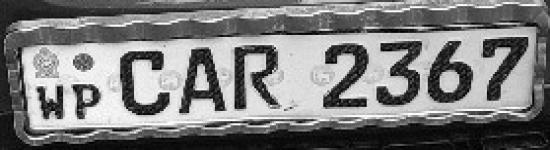2: (316, 39, 373, 113)
3: (376, 38, 425, 109)
6: (428, 34, 476, 106), (428, 35, 476, 106)
7: (484, 32, 532, 108)
A: (180, 46, 229, 118)
C: (116, 47, 177, 118)
P: (68, 79, 108, 121)
R: (230, 40, 289, 115)
W: (31, 77, 67, 123)
